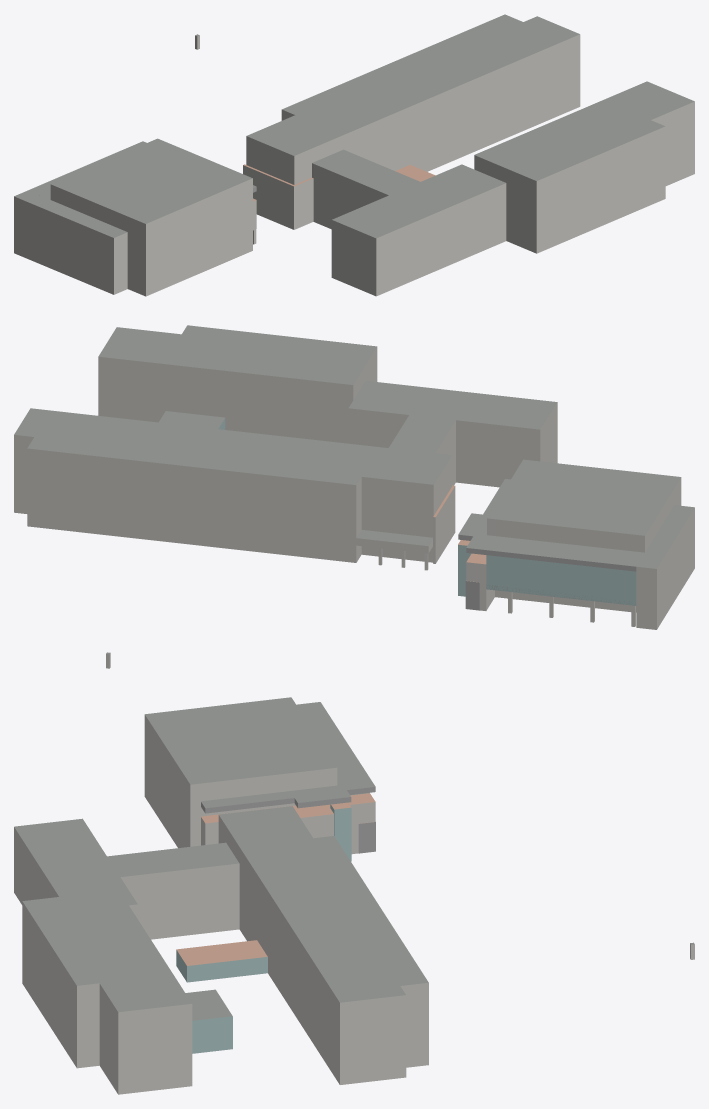
Rendered from gridID_61.dae.
3 views of the same model, one above another, from view 1: azimuth 30°, elevation 25°; view 2: azimuth 150°, elevation 25°; view 3: azimuth 270°, elevation 25° (orthographic). The views are drawn at different scales.
Visible parts, largest first — view 1: model_gridID_61_w116941136, model_gridID_61_w116941139, model_gridID_61_w116941138, model_gridID_61_w116941136_001; view 2: model_gridID_61_w116941136, model_gridID_61_w116941139, model_gridID_61_w116941138, model_gridID_61_w116941136_001; view 3: model_gridID_61_w116941136, model_gridID_61_w116941138, model_gridID_61_w116941139, model_gridID_61_w116941136_001.
Part boxes in pixels (bbox=[...]): model_gridID_61_w116941136: bbox=[243, 14, 580, 229]; model_gridID_61_w116941139: bbox=[14, 138, 256, 296]; model_gridID_61_w116941138: bbox=[474, 81, 694, 253]; model_gridID_61_w116941136_001: bbox=[331, 164, 506, 296]; model_gridID_61_w116941136: bbox=[14, 408, 455, 570]; model_gridID_61_w116941139: bbox=[458, 459, 694, 629]; model_gridID_61_w116941138: bbox=[98, 325, 377, 443]; model_gridID_61_w116941136_001: bbox=[348, 381, 557, 487]; model_gridID_61_w116941136: bbox=[107, 806, 428, 1084]; model_gridID_61_w116941138: bbox=[22, 890, 232, 1094]; model_gridID_61_w116941139: bbox=[144, 697, 375, 861]; model_gridID_61_w116941136_001: bbox=[14, 818, 137, 918].
Bounding box in the file's own units: 107 × 93.56 × 12.5.
